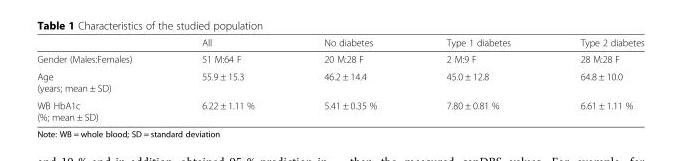table: (36, 36, 643, 122)
table column: (410, 36, 544, 122), (36, 36, 166, 122), (166, 36, 288, 122), (288, 36, 410, 122), (544, 36, 643, 122)
table column header: (36, 36, 643, 50)
table row: (36, 67, 643, 96), (36, 96, 643, 122), (36, 50, 643, 67), (36, 36, 643, 50)
